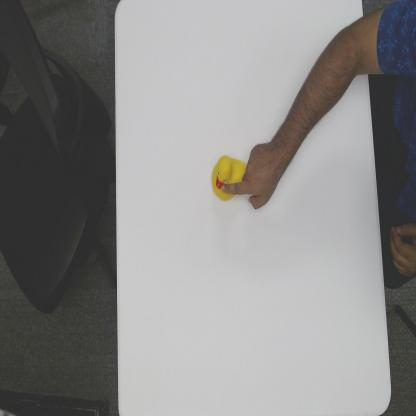Arm: (277, 20, 369, 174)
Duck: (211, 153, 247, 201)
Hand: (221, 140, 282, 212)
